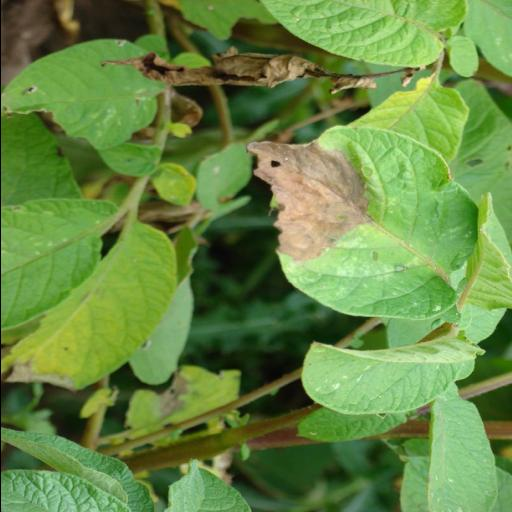Late Blight: (248, 126, 478, 322)
